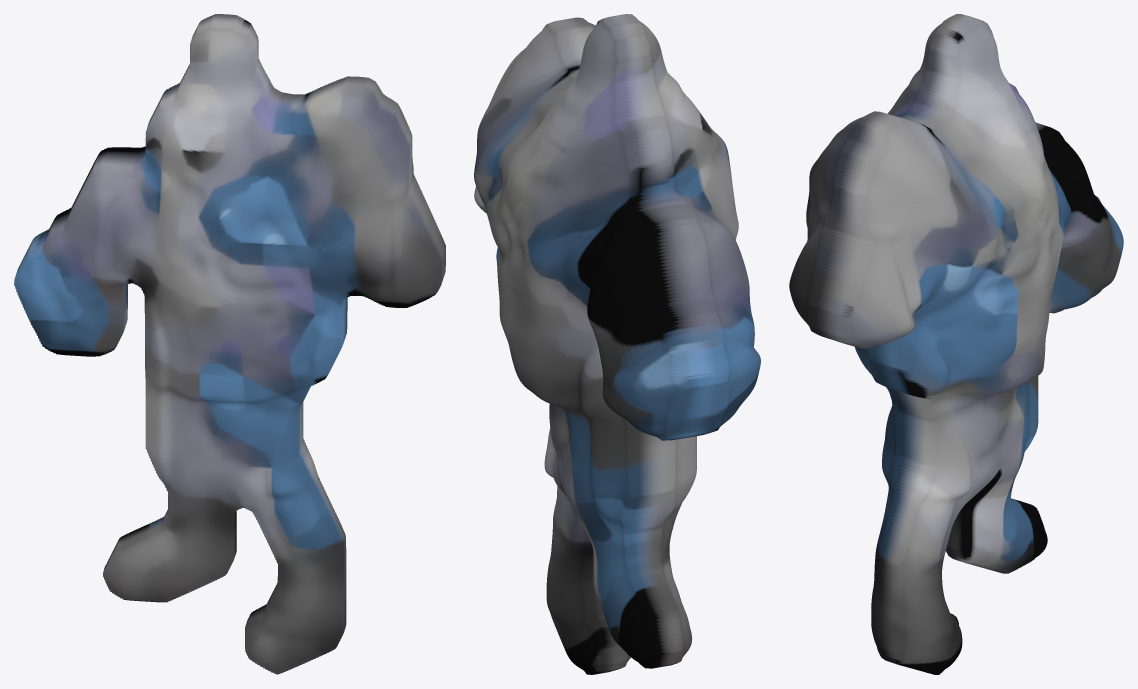
Rendered from rocketeer.glb.
3 renders of one model, left to right at view 1: azimuth 30°, elevation 25°; view 2: azimuth 150°, elevation 25°; view 3: azimuth 270°, elevation 25°, orthographic. The views are drawn at different scales.
Parts seen in each view (by area): view 1: rocketeer; view 2: rocketeer; view 3: rocketeer.
Part boxes in pixels (x1,y1,x2,y2): rocketeer: [14, 14, 445, 674]; rocketeer: [474, 14, 760, 674]; rocketeer: [789, 14, 1123, 674].
Size of the model in its own units: 1.19 by 2.23 by 1.06.
